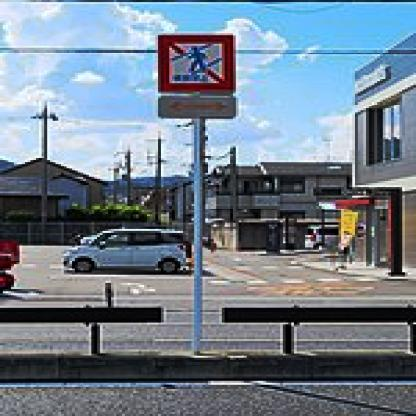Pedestrian Crossing: (148, 34, 247, 96)
